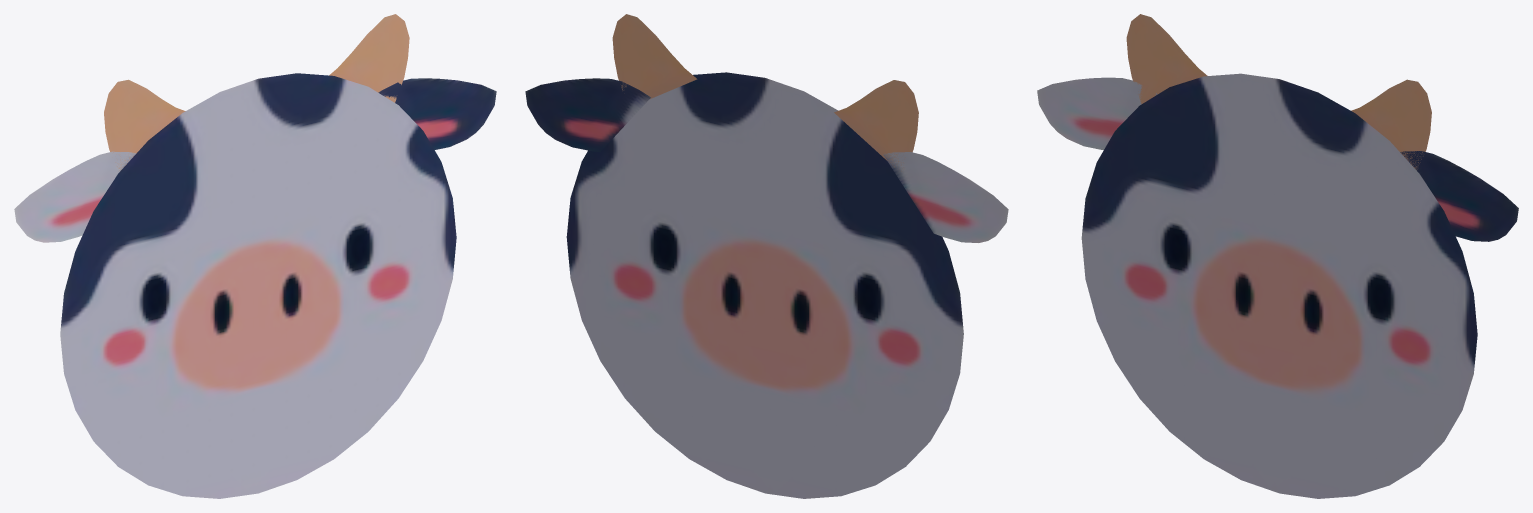
Rendered from Cow.fbx.
3 views of the same model, side by side, from view 1: azimuth 30°, elevation 25°; view 2: azimuth 150°, elevation 25°; view 3: azimuth 330°, elevation 25° (orthographic).
Parts seen in each view (by area): view 1: Cow; view 2: Cow; view 3: Cow.
Part boxes in pixels (x1,y1,x2,y2): Cow: [14, 14, 496, 498]; Cow: [525, 14, 1008, 498]; Cow: [1037, 14, 1518, 498].
Bounding box in the file's own units: 243 × 215 × 0.5525.
